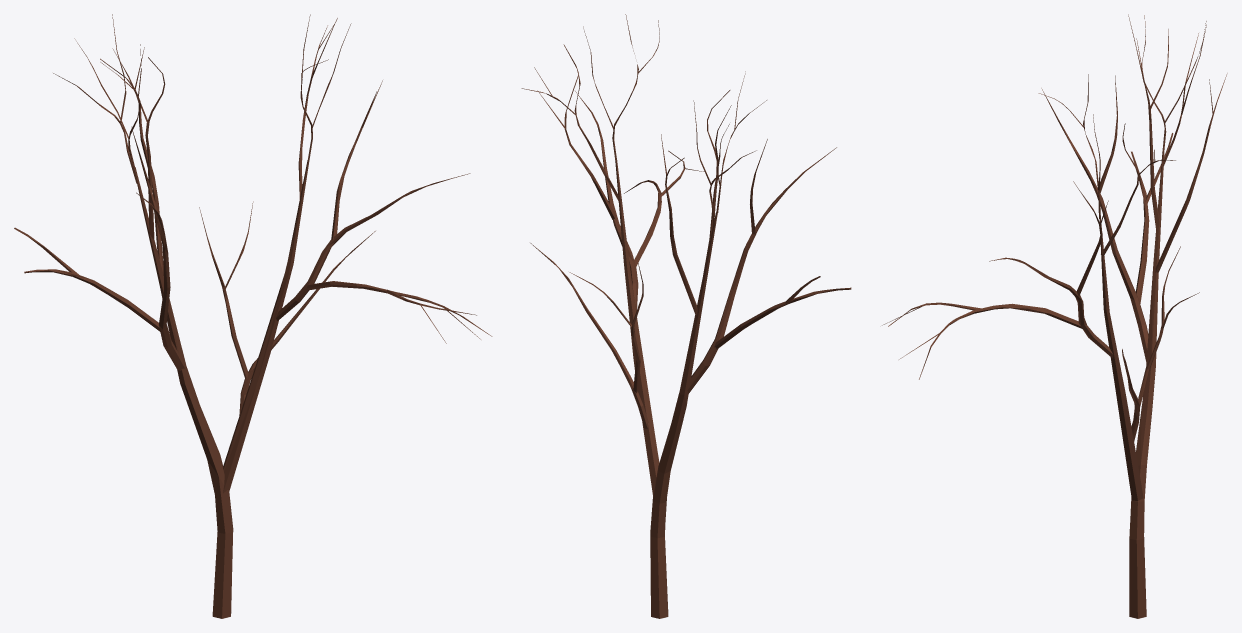
File: Tree_03.fbx
3 views of the same model, side by side, from view 1: azimuth 30°, elevation 25°; view 2: azimuth 150°, elevation 25°; view 3: azimuth 270°, elevation 25° (orthographic). The views are drawn at different scales.
Parts seen in each view (by area): view 1: Tree_03; view 2: Tree_03; view 3: Tree_03.
Boxes of the visible parts, x1,y1,x2,y2 form: Tree_03: (14, 14, 492, 618); Tree_03: (521, 14, 851, 618); Tree_03: (882, 14, 1227, 618).
Bounding box in the file's own units: 404 × 631 × 349.
